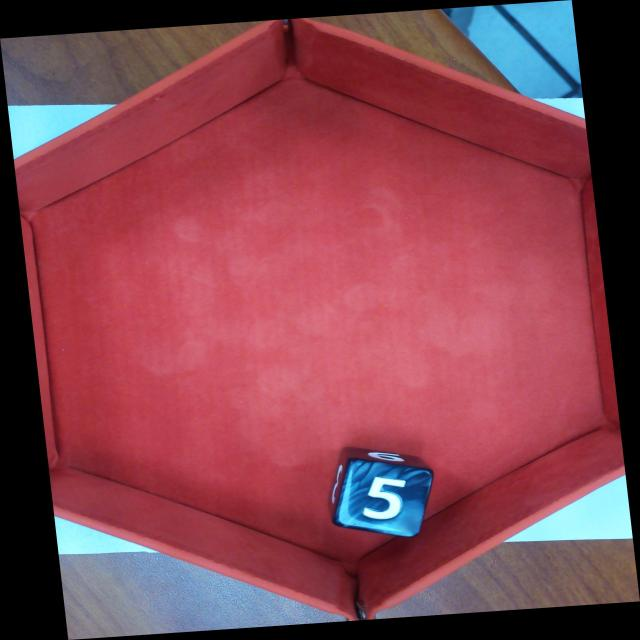dice: (328, 456, 439, 541)
